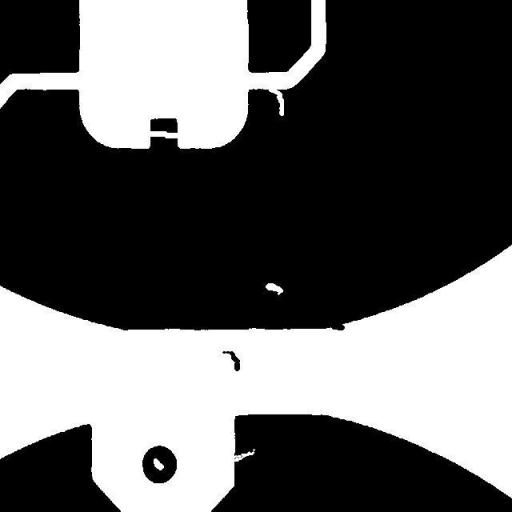copper: (214, 344, 248, 378)
mousebite: (258, 78, 292, 123), (221, 441, 262, 469)
open: (136, 123, 186, 146)
pin-hole: (258, 276, 290, 302), (146, 450, 171, 478)
spur: (322, 312, 352, 338)
